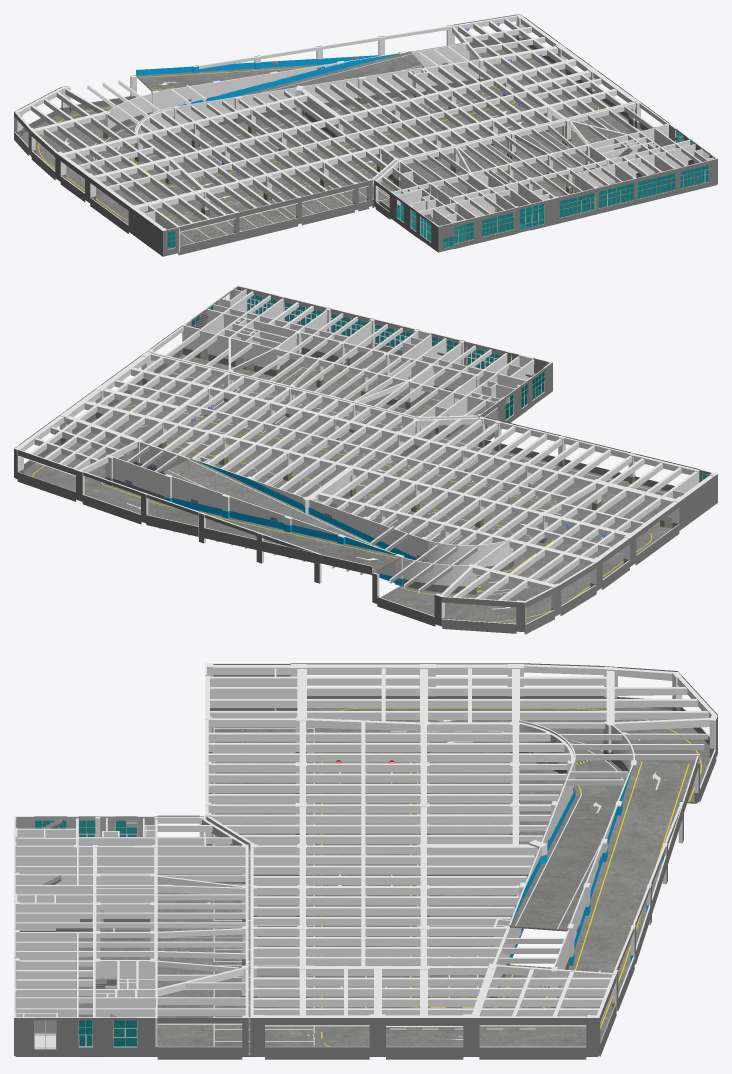
3 views of the same model, one above another, from view 1: azimuth 30°, elevation 25°; view 2: azimuth 150°, elevation 25°; view 3: azimuth 270°, elevation 25° (orthographic). The views are drawn at different scales.
Visible parts, largest first — view 1: 矩形梁003, 楼板009, 内墙006, 外墙踢脚线006, 玻璃010, 内墙柱006, 车行道009, 外墙009, 不锈钢010, 外墙柱006, 内墙踢脚线006, 车道外墙踢脚线006 (+3 smaller); view 2: 矩形梁003, 楼板009, 内墙006, 外墙踢脚线006, 车行道009, 内墙柱006, 外墙009, 车道踢脚线006, 内墙踢脚线006, 玻璃010, 外墙柱006, 不锈钢010 (+2 smaller); view 3: 矩形梁003, 楼板009, 外墙踢脚线006, 车行道009, 内墙006, 内墙柱006, 外墙009, 外墙柱006, 路面标006, 停车位, 玻璃010, 内墙踢脚线006 (+3 smaller).
Part boxes in pixels (bbox=[...]): 矩形梁003: bbox=[15, 15, 701, 232]; 楼板009: bbox=[20, 42, 716, 253]; 内墙006: bbox=[108, 44, 713, 252]; 外墙踢脚线006: bbox=[14, 14, 717, 256]; 玻璃010: bbox=[167, 130, 708, 248]; 内墙柱006: bbox=[103, 42, 610, 230]; 车行道009: bbox=[136, 51, 423, 97]; 外墙009: bbox=[14, 26, 717, 254]; 不锈钢010: bbox=[167, 135, 708, 248]; 外墙柱006: bbox=[14, 14, 640, 232]; 内墙踢脚线006: bbox=[103, 78, 687, 215]; 车道外墙踢脚线006: bbox=[136, 55, 378, 75]; 矩形梁003: bbox=[18, 291, 712, 606]; 楼板009: bbox=[15, 349, 671, 632]; 内墙006: bbox=[113, 289, 699, 586]; 外墙踢脚线006: bbox=[14, 307, 717, 634]; 车行道009: bbox=[140, 458, 400, 572]; 内墙柱006: bbox=[105, 330, 717, 587]; 外墙009: bbox=[18, 285, 714, 634]; 车道踢脚线006: bbox=[164, 460, 423, 586]; 内墙踢脚线006: bbox=[105, 343, 672, 594]; 玻璃010: bbox=[191, 293, 709, 479]; 外墙柱006: bbox=[14, 308, 684, 624]; 不锈钢010: bbox=[192, 293, 707, 480]; 矩形梁003: bbox=[16, 664, 717, 1026]; 楼板009: bbox=[15, 707, 710, 1056]; 外墙踢脚线006: bbox=[14, 663, 717, 1059]; 车行道009: bbox=[510, 761, 694, 972]; 内墙006: bbox=[15, 668, 634, 1048]; 内墙柱006: bbox=[73, 663, 636, 997]; 外墙009: bbox=[14, 663, 717, 1056]; 外墙柱006: bbox=[14, 664, 717, 1017]; 路面标006: bbox=[321, 708, 701, 1046]; 停车位: bbox=[113, 727, 518, 1053]; 玻璃010: bbox=[34, 820, 136, 1046]; 内墙踢脚线006: bbox=[19, 708, 629, 1055].
Bounding box in the file's own units: 104 × 6.84 × 87.26.
34 materials, 2 textured.
